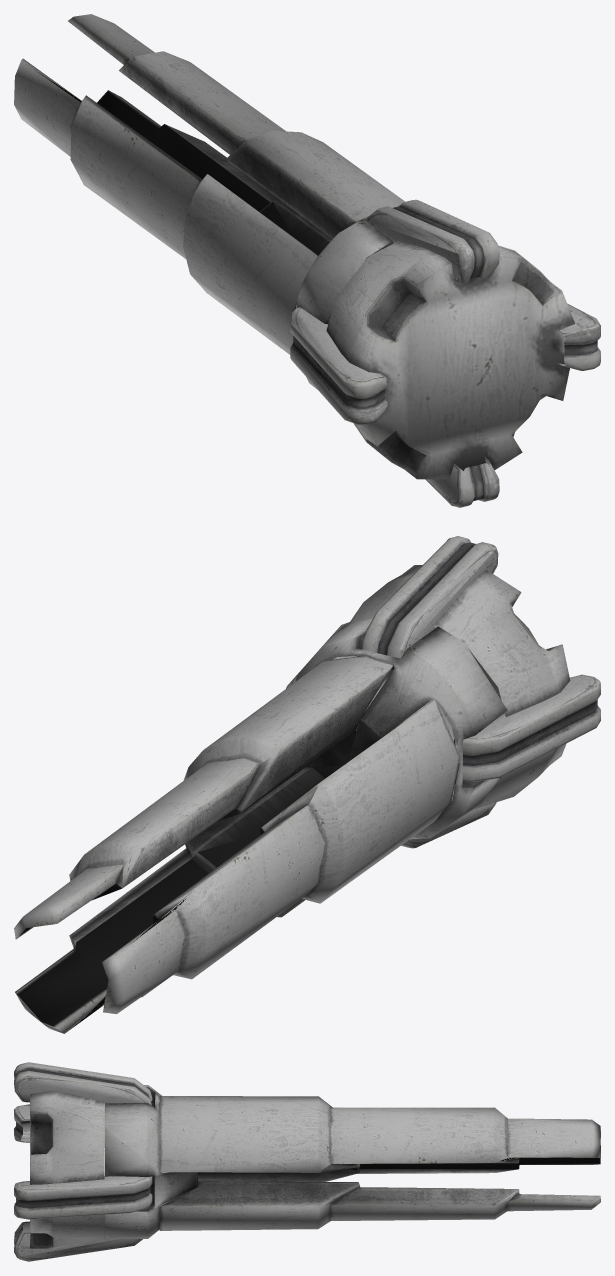
File: BeamEmitter.fbx
3 renders of one model, top to bottom at view 1: azimuth 30°, elevation 25°; view 2: azimuth 150°, elevation 25°; view 3: azimuth 270°, elevation 25°, orthographic. The views are drawn at different scales.
Visible parts, largest first — view 1: SM_Fixture_BeamEmitter_Vert_A1_01.002, SM_Fixture_BeamEmitter_Vert_A1_01.003, SM_Fixture_BeamEmitter_Vert_A1_01.005, SM_Fixture_BeamEmitter_Vert_A1_01.006, SM_Fixture_BeamEmitter_Vert_A1_01.009, SM_Fixture_BeamEmitter_Vert_A1_01.001, SM_Fixture_BeamEmitter_Vert_A1_01.008, SM_Fixture_BeamEmitter_Vert_A1_01.007; view 2: SM_Fixture_BeamEmitter_Vert_A1_01.003, SM_Fixture_BeamEmitter_Vert_A1_01.002, SM_Fixture_BeamEmitter_Vert_A1_01.005, SM_Fixture_BeamEmitter_Vert_A1_01.006, SM_Fixture_BeamEmitter_Vert_A1_01.009, SM_Fixture_BeamEmitter_Vert_A1_01.001, SM_Fixture_BeamEmitter_Vert_A1_01.008; view 3: SM_Fixture_BeamEmitter_Vert_A1_01.005, SM_Fixture_BeamEmitter_Vert_A1_01.002, SM_Fixture_BeamEmitter_Vert_A1_01.006, SM_Fixture_BeamEmitter_Vert_A1_01.007, SM_Fixture_BeamEmitter_Vert_A1_01.003, SM_Fixture_BeamEmitter_Vert_A1_01.001, SM_Fixture_BeamEmitter_Vert_A1_01.008, SM_Fixture_BeamEmitter_Vert_A1_01.009.
Part boxes in pixels (<box>): SM_Fixture_BeamEmitter_Vert_A1_01.002: <box>296,219,575,479</box>; SM_Fixture_BeamEmitter_Vert_A1_01.003: <box>14,58,318,354</box>; SM_Fixture_BeamEmitter_Vert_A1_01.005: <box>68,14,404,251</box>; SM_Fixture_BeamEmitter_Vert_A1_01.006: <box>97,90,331,254</box>; SM_Fixture_BeamEmitter_Vert_A1_01.009: <box>290,307,387,424</box>; SM_Fixture_BeamEmitter_Vert_A1_01.001: <box>366,199,499,283</box>; SM_Fixture_BeamEmitter_Vert_A1_01.008: <box>425,456,499,507</box>; SM_Fixture_BeamEmitter_Vert_A1_01.007: <box>557,303,600,370</box>; SM_Fixture_BeamEmitter_Vert_A1_01.003: <box>102,700,459,1014</box>; SM_Fixture_BeamEmitter_Vert_A1_01.002: <box>295,565,570,839</box>; SM_Fixture_BeamEmitter_Vert_A1_01.005: <box>14,655,393,939</box>; SM_Fixture_BeamEmitter_Vert_A1_01.006: <box>15,767,324,1033</box>; SM_Fixture_BeamEmitter_Vert_A1_01.009: <box>462,674,600,781</box>; SM_Fixture_BeamEmitter_Vert_A1_01.001: <box>361,536,498,658</box>; SM_Fixture_BeamEmitter_Vert_A1_01.008: <box>401,793,496,848</box>; SM_Fixture_BeamEmitter_Vert_A1_01.005: <box>159,1096,600,1172</box>; SM_Fixture_BeamEmitter_Vert_A1_01.002: <box>30,1085,197,1248</box>; SM_Fixture_BeamEmitter_Vert_A1_01.006: <box>159,1181,600,1230</box>; SM_Fixture_BeamEmitter_Vert_A1_01.007: <box>14,1176,152,1219</box>; SM_Fixture_BeamEmitter_Vert_A1_01.003: <box>160,1129,600,1181</box>; SM_Fixture_BeamEmitter_Vert_A1_01.001: <box>14,1062,152,1105</box>; SM_Fixture_BeamEmitter_Vert_A1_01.008: <box>14,1221,142,1261</box>; SM_Fixture_BeamEmitter_Vert_A1_01.009: <box>14,1104,104,1147</box>.
Bounding box in the file's own units: 5035 × 14269 × 5035.
